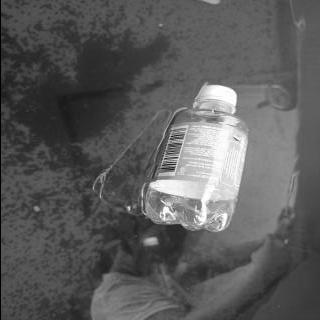bottle: (142, 84, 250, 234)
